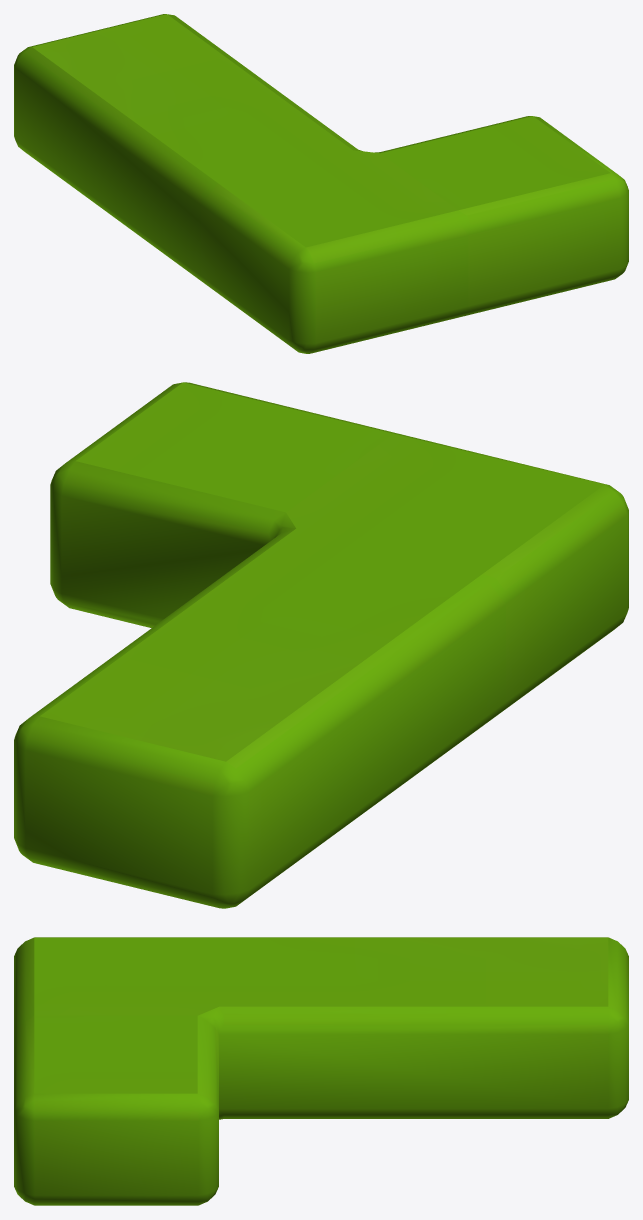
Rendered from LongLBlockGreen.fbx.
3 views of the same model, one above another, from view 1: azimuth 30°, elevation 25°; view 2: azimuth 150°, elevation 25°; view 3: azimuth 270°, elevation 25° (orthographic). The views are drawn at different scales.
Visible parts, largest first — view 1: LongLBlock; view 2: LongLBlock; view 3: LongLBlock.
Boxes of the visible parts, x1=… form: LongLBlock: x1=14, y1=14, x2=628, y2=353; LongLBlock: x1=14, y1=382, x2=628, y2=908; LongLBlock: x1=14, y1=937, x2=628, y2=1205.
Bounding box in the file's own units: 4 × 1.2 × 6.
